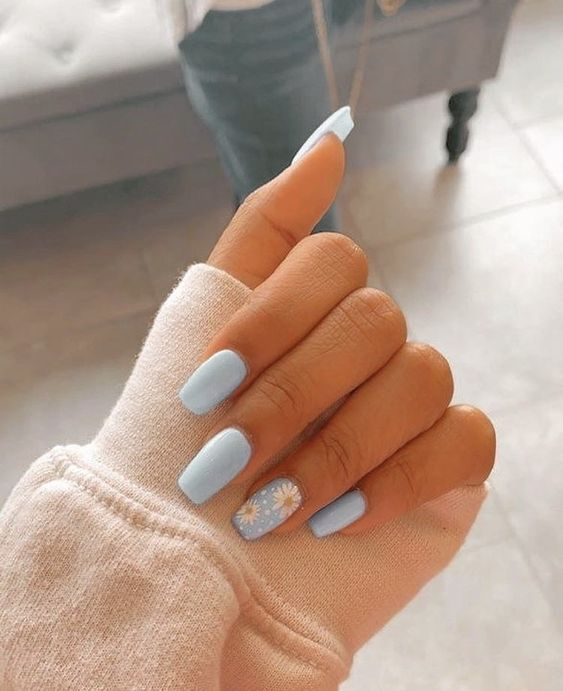nails: (155, 414, 260, 510), (281, 96, 371, 202), (164, 335, 264, 420), (222, 471, 308, 544), (294, 479, 378, 553)
